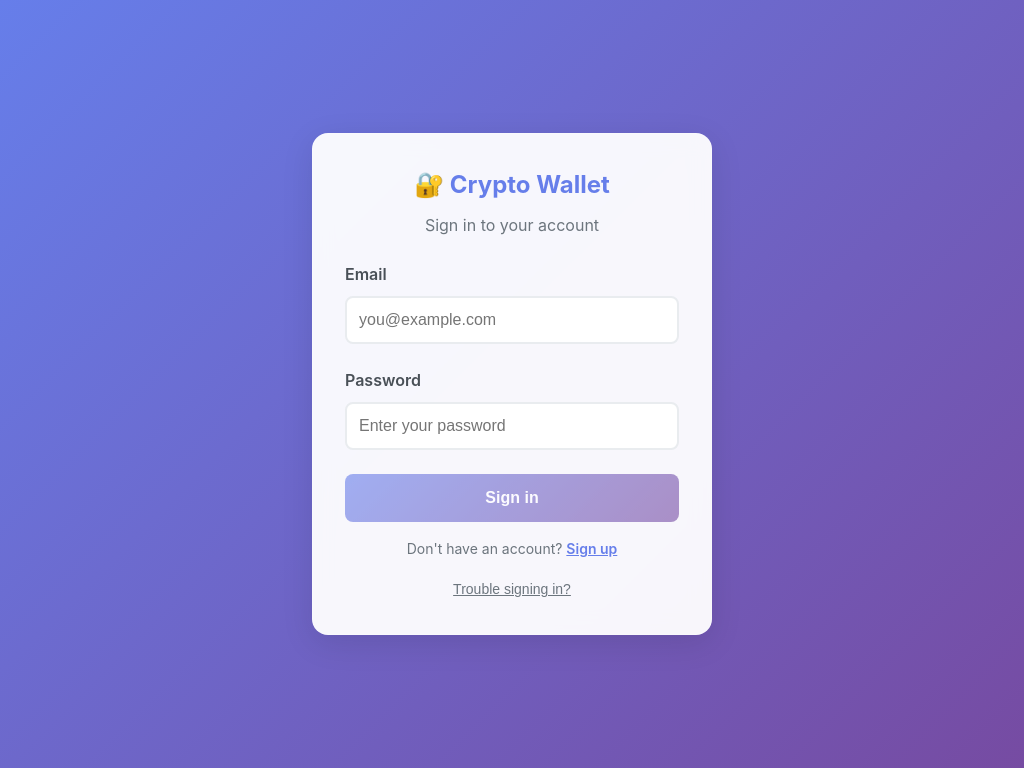
Test: SignIn page › shows a server-error message including the status code on 5xx
Type "admin@cryptowall.local" into the field labelled "Email" at [512, 320], box [345,296,679,344]
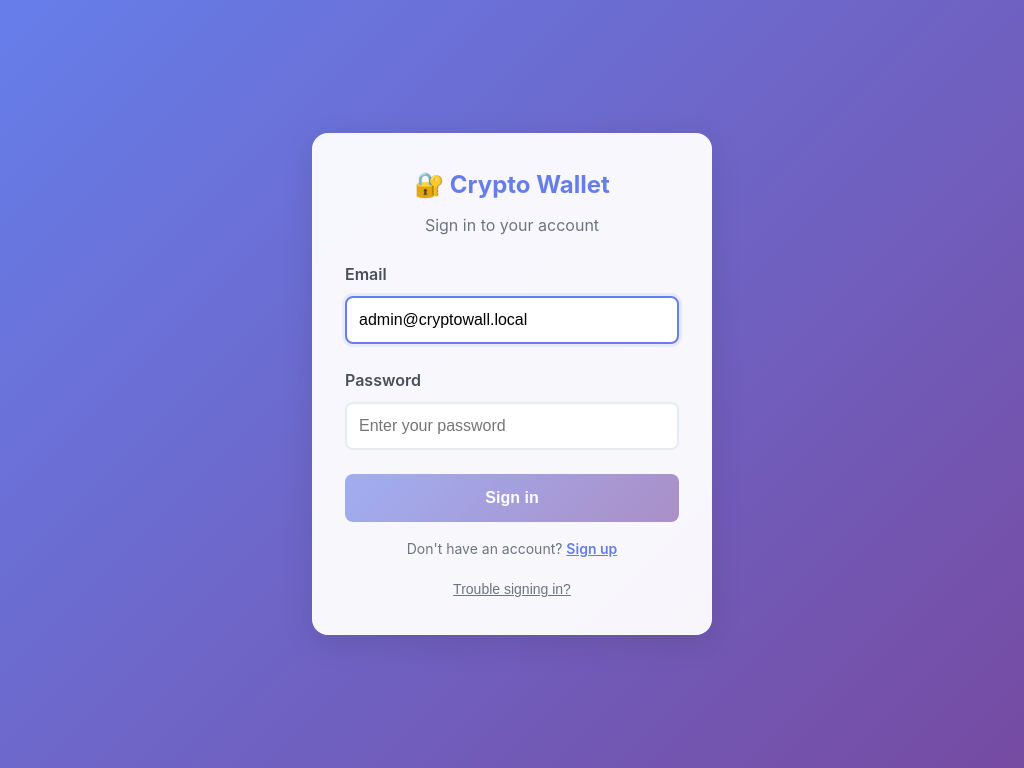
Type "super-secret" into the password field labelled "Password" at [512, 426], box [345,402,679,450]
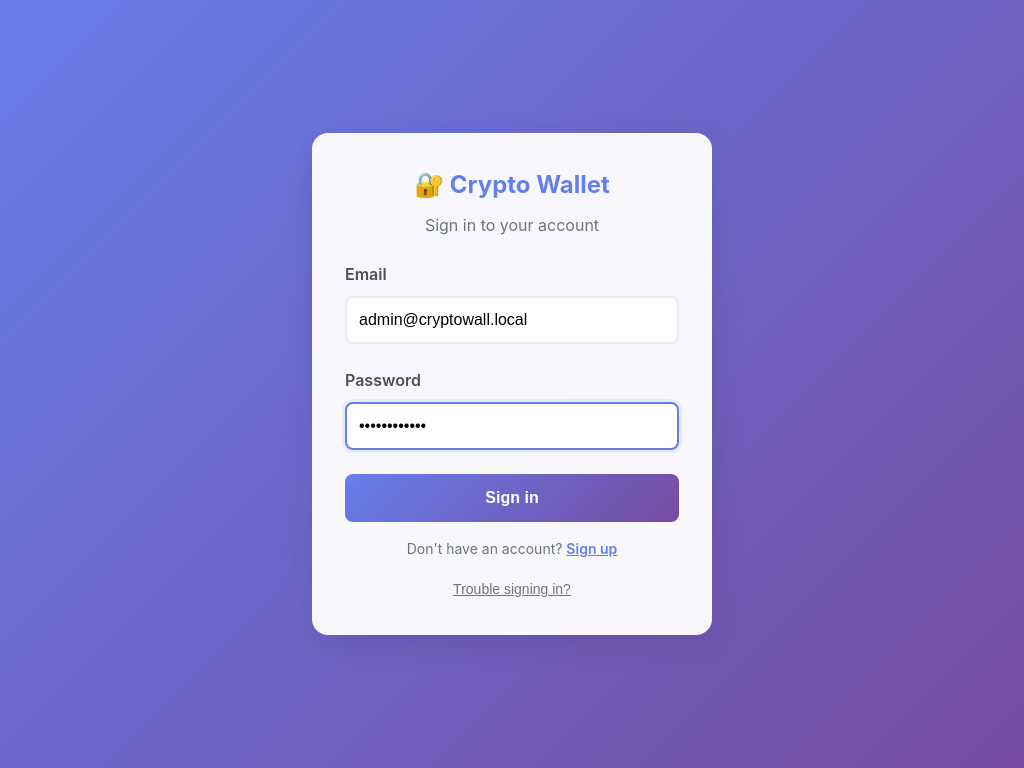
Click the button "Sign in" at [512, 498], box [345,474,679,522]
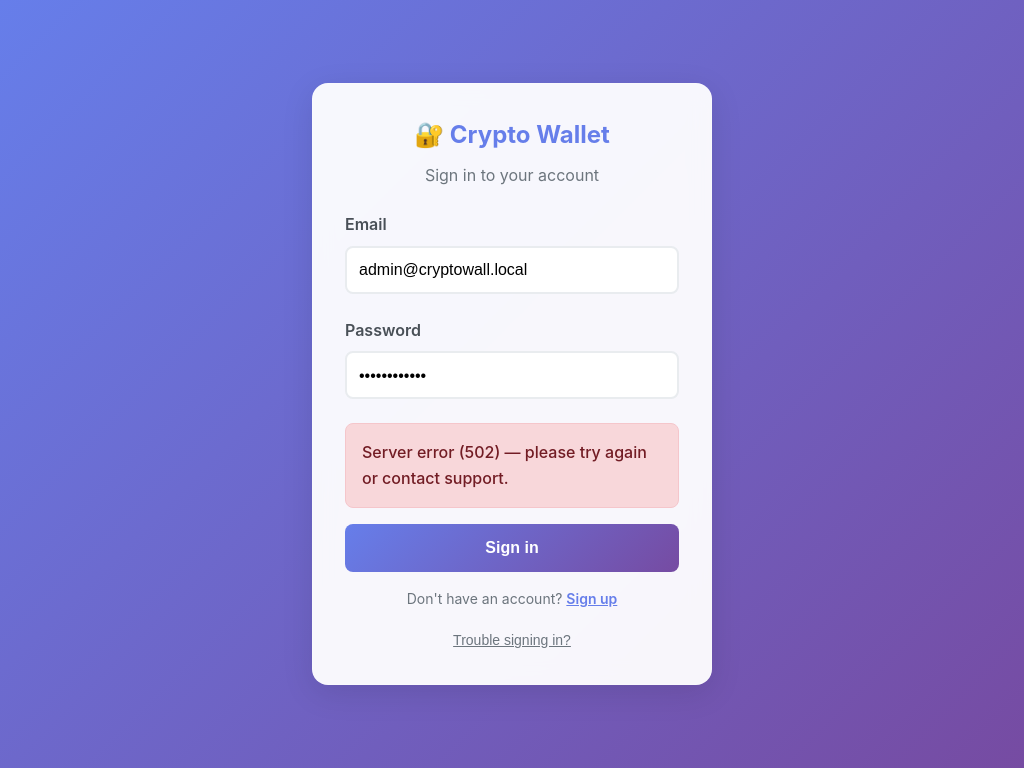
Expected: the message shows "Server error (502)", [362,442,647,488]
